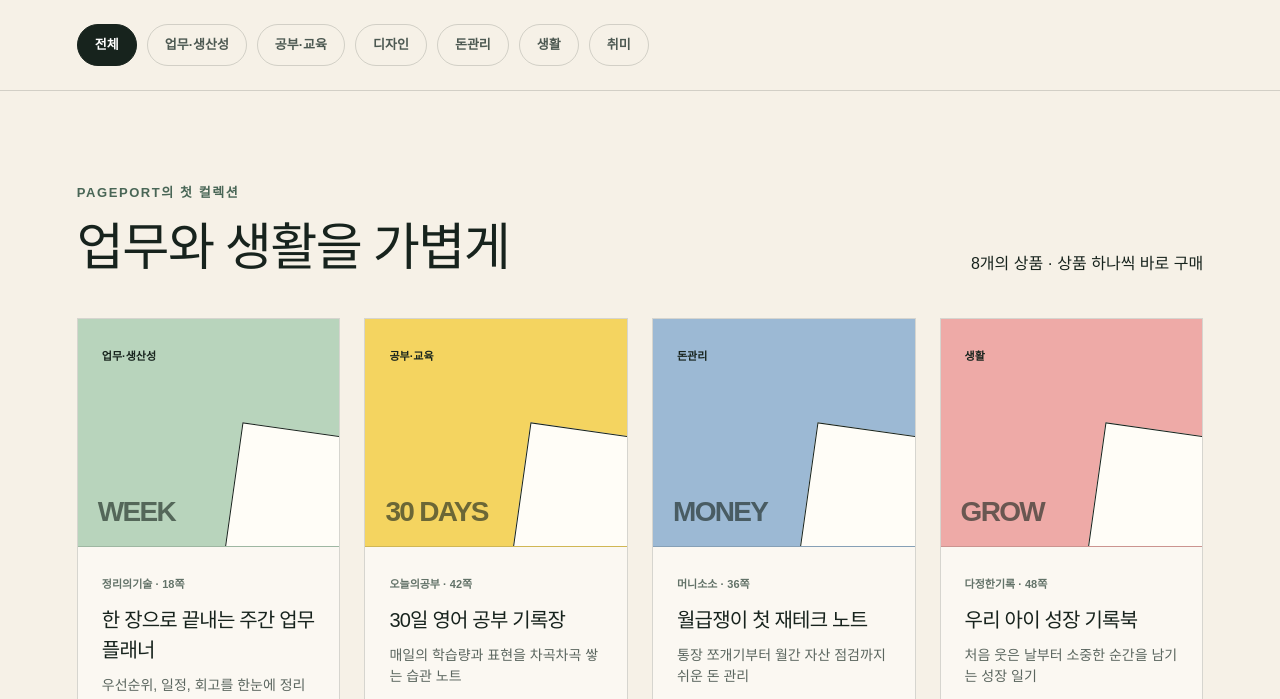
Test case: 상품 카테고리 필터 › 선택한 카테고리의 상품만 보여주고 전체 목록으로 돌아간다
The width and height of the screenshot is (1280, 699).
Click the button "업무·생산성": (197, 45) top-left (147, 24), bottom-right (247, 66)
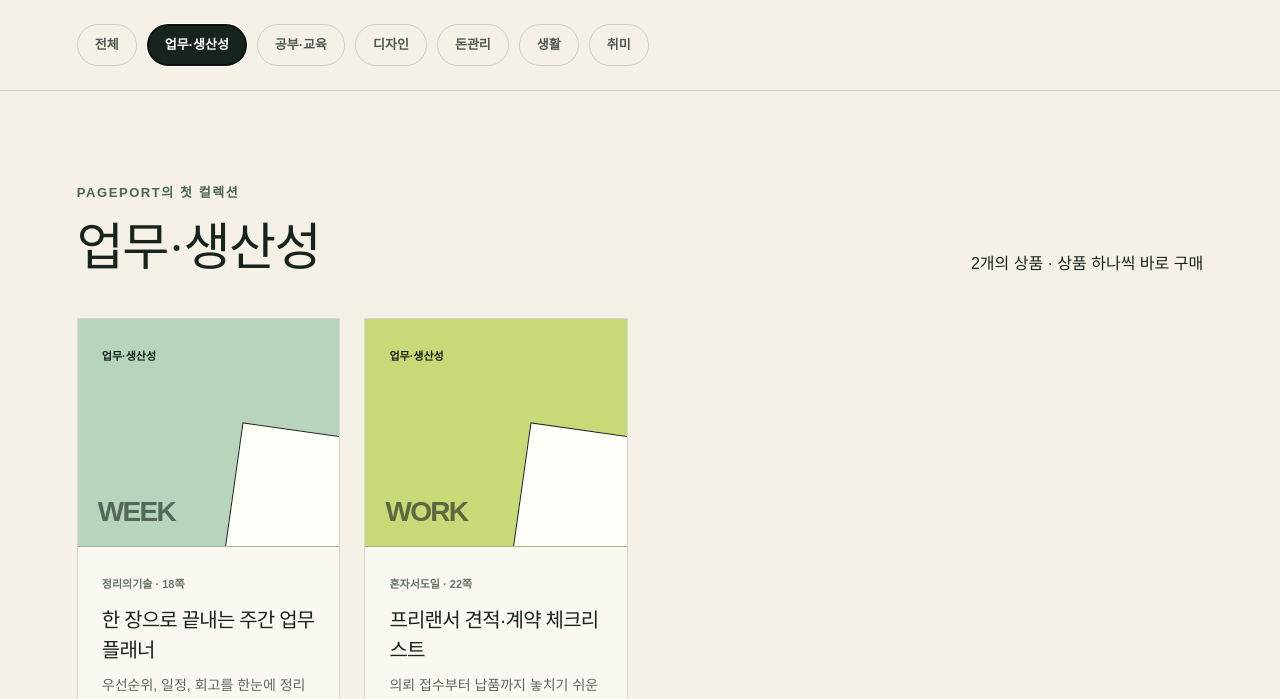
Expected: the heading "한 장으로 끝내는 주간 업무 플래너" is shown, top-left (102, 605), bottom-right (315, 665)
Now the link "30일 영어 공부 기록장" is gone
Click the button "전체": (107, 45) top-left (77, 24), bottom-right (137, 66)
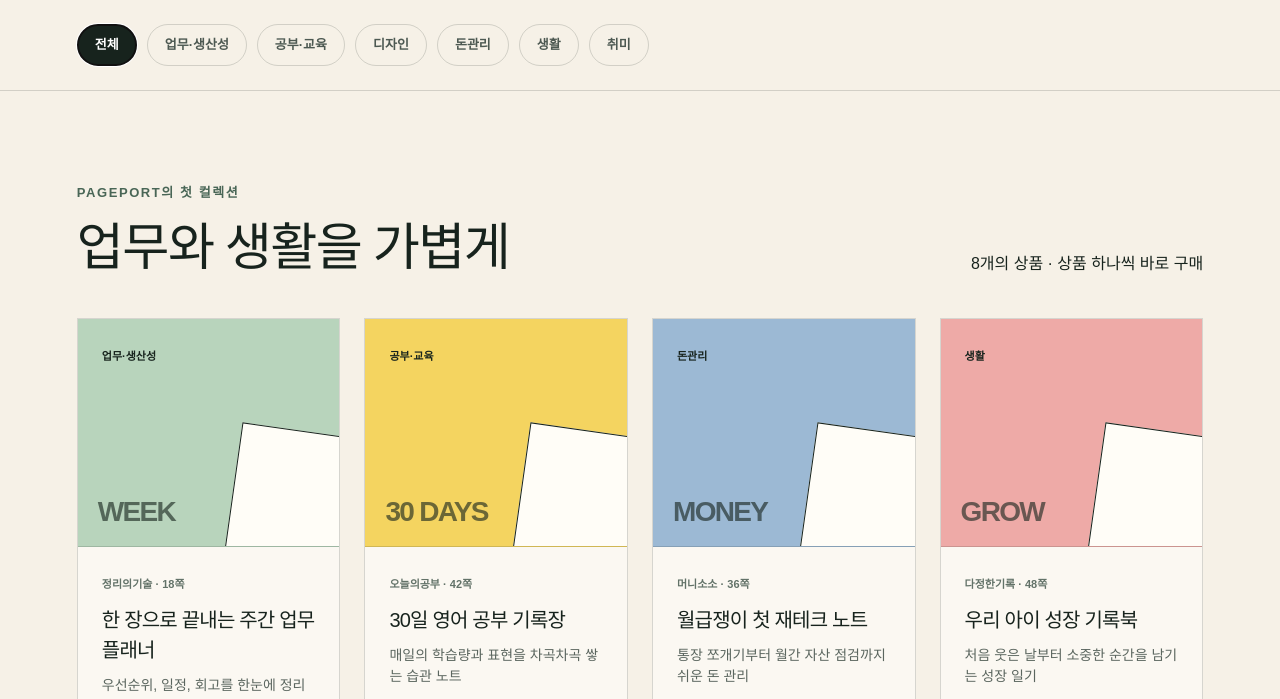
Now the number of links is 8
